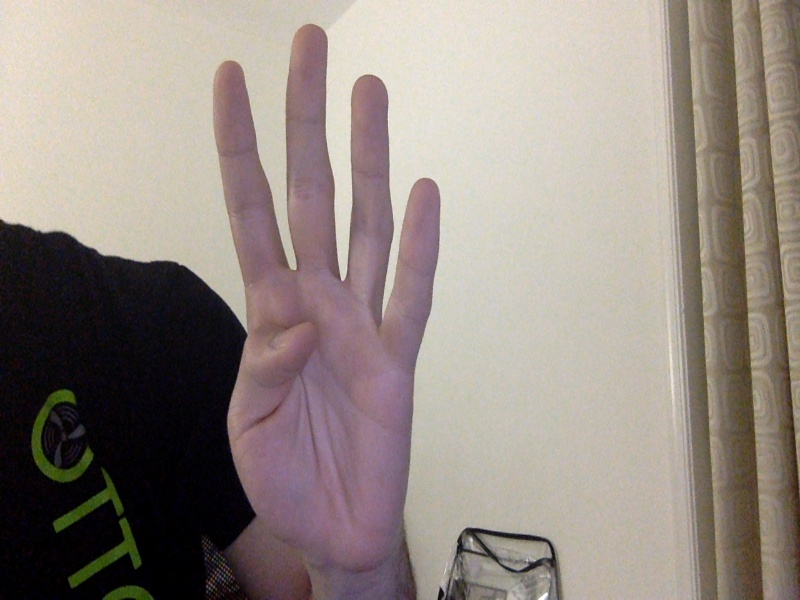4-hand: (210, 24, 442, 562)
